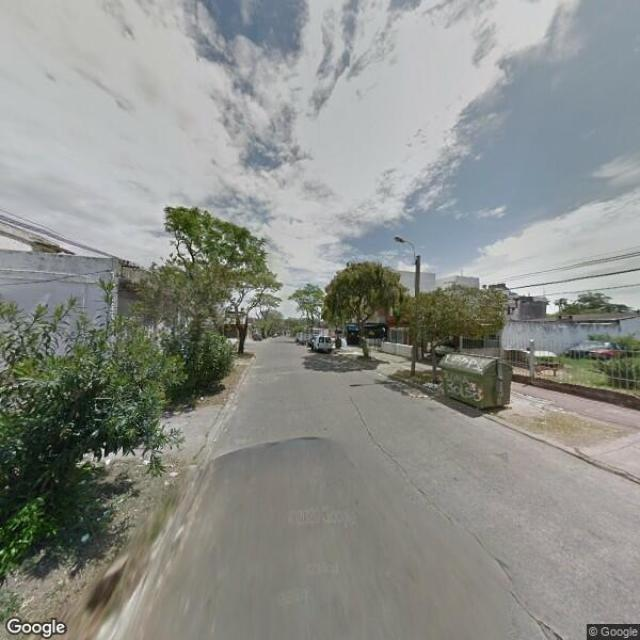garbage container: (431, 347, 522, 425)
